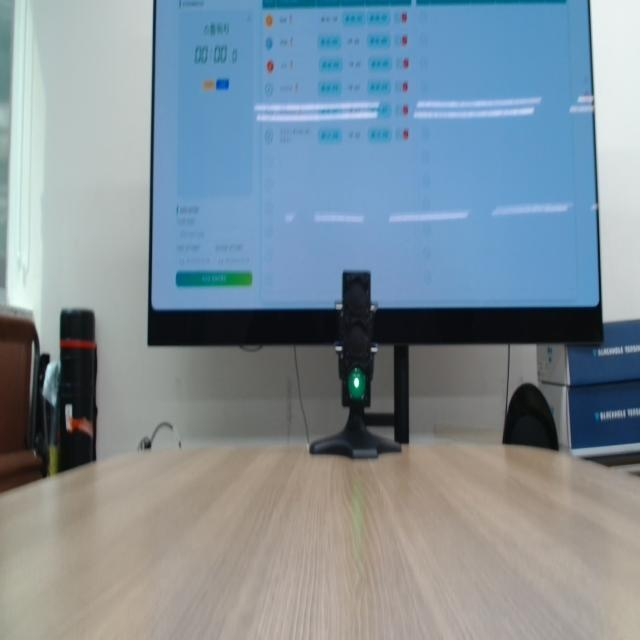green_light: (348, 368, 367, 402)
